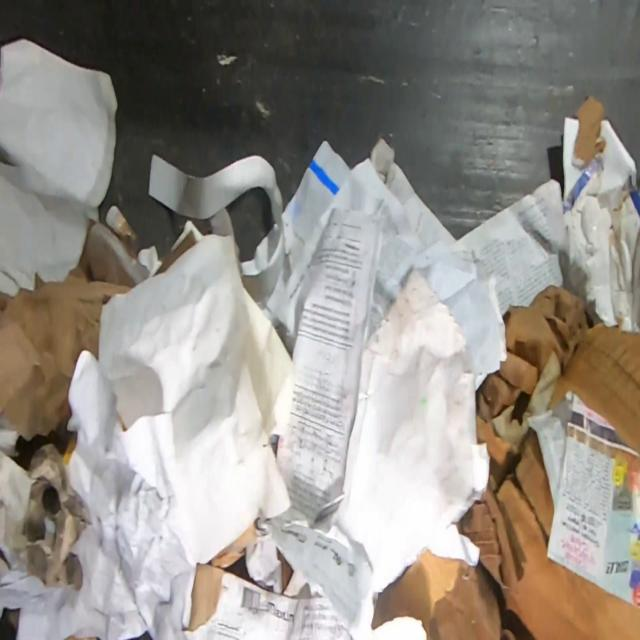cardboard: (458, 429, 640, 640), (476, 282, 598, 490), (561, 142, 640, 331), (370, 548, 516, 640), (549, 323, 640, 451), (188, 564, 225, 632), (571, 96, 606, 167)
